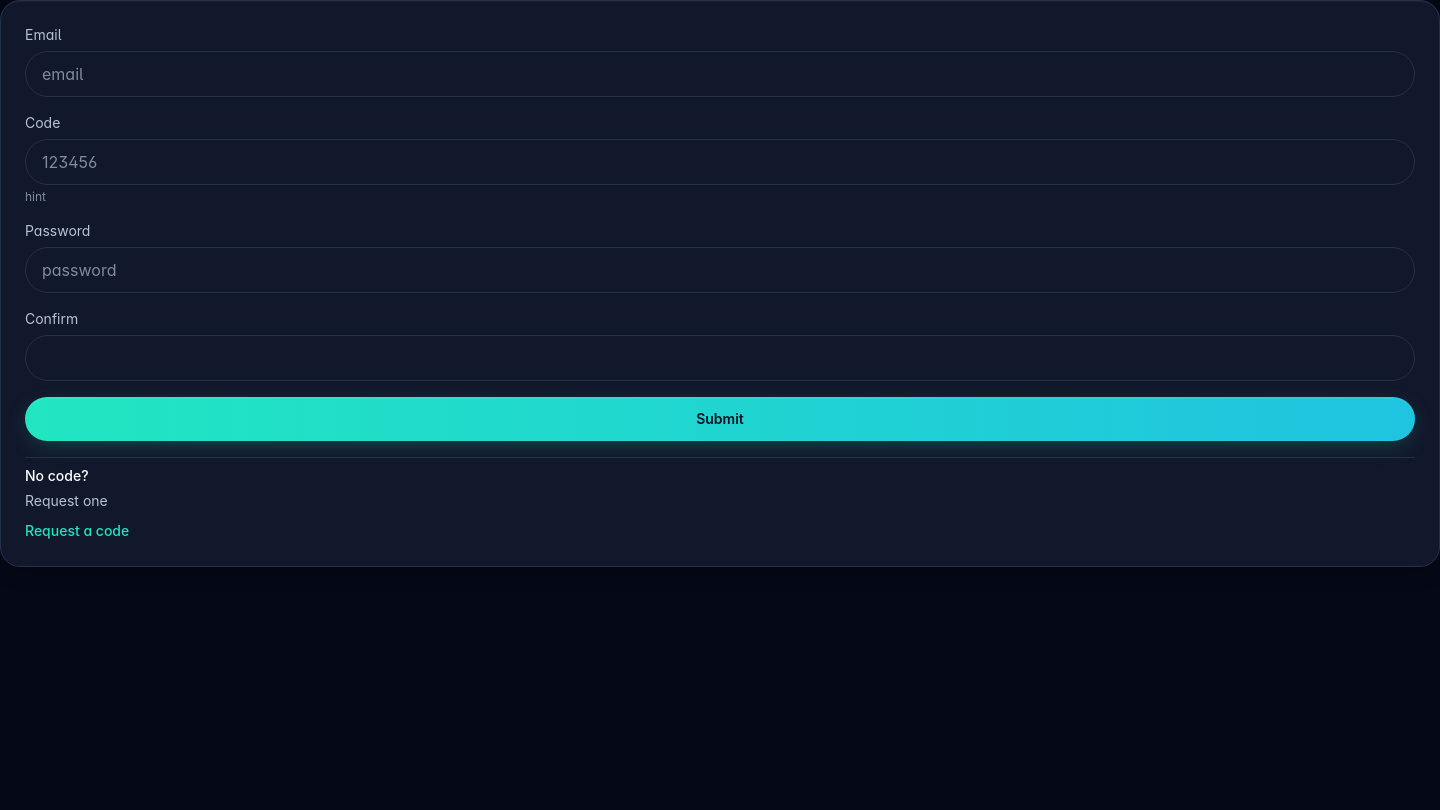
Test: ResetPasswordForm › network failure during verifyOtp shows the network copy, not a generic/opaque one
The width and height of the screenshot is (1440, 810).
Type "user-a@example.com" into the field labelled "Email".
click(720, 74); type("user-a@example.com")  # box [25,51,1415,97]
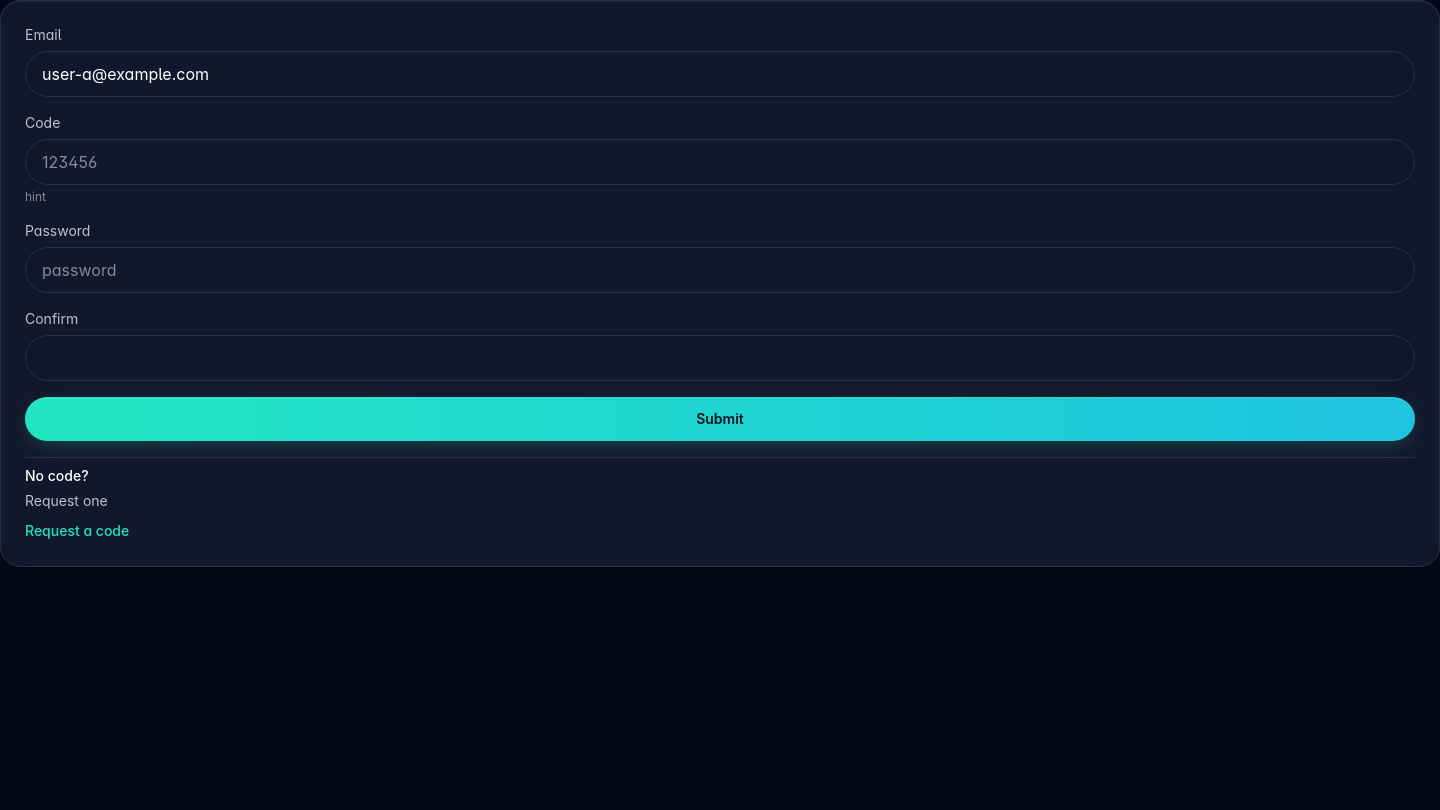
Type "654321" into the field labelled "Code".
click(720, 162); type("654321")  # box [25,139,1415,185]
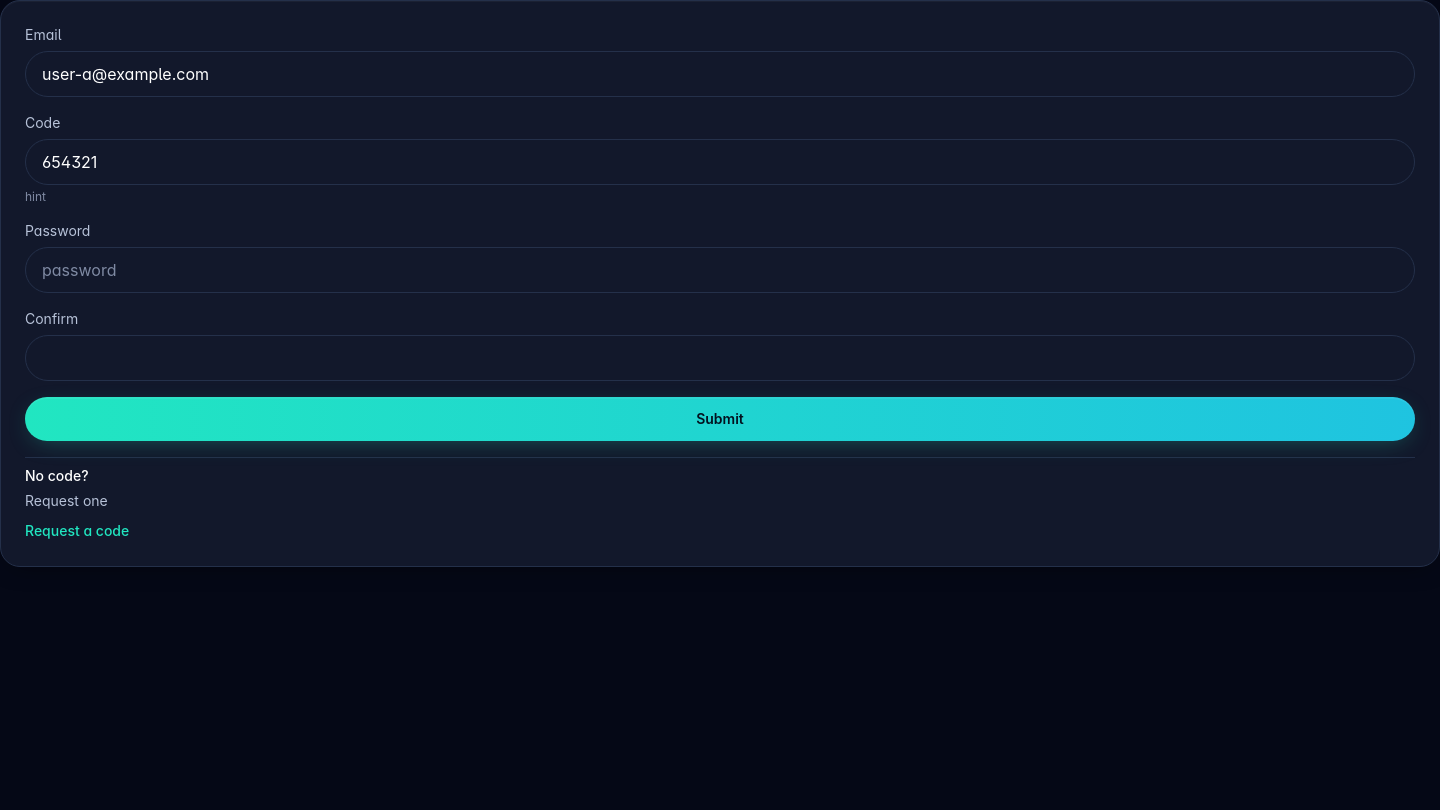
Type "brand-new-password" into the password field labelled "Password".
click(720, 270); type("brand-new-password")  # box [25,247,1415,293]
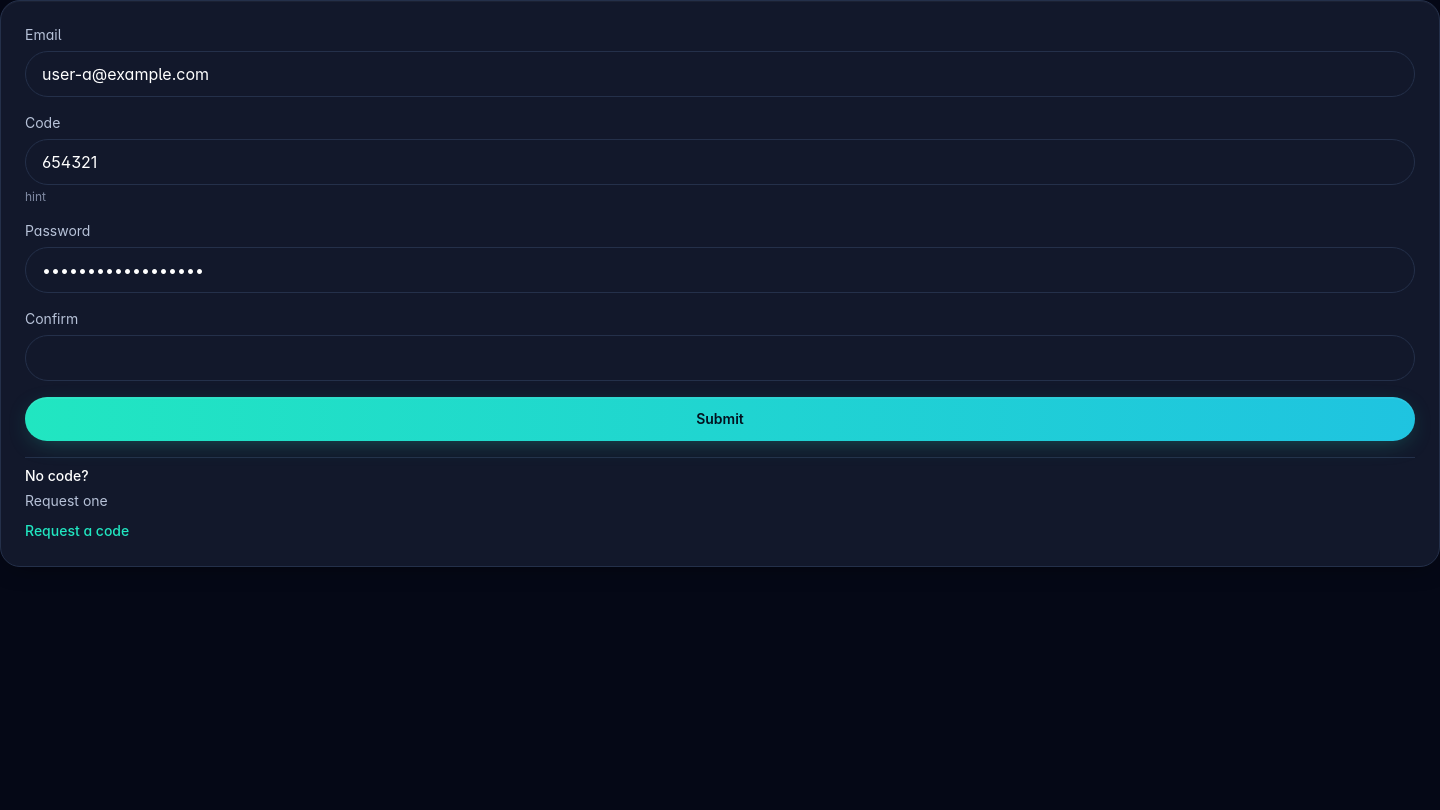
Type "brand-new-password" into the password field labelled "Confirm".
click(720, 358); type("brand-new-password")  # box [25,335,1415,381]
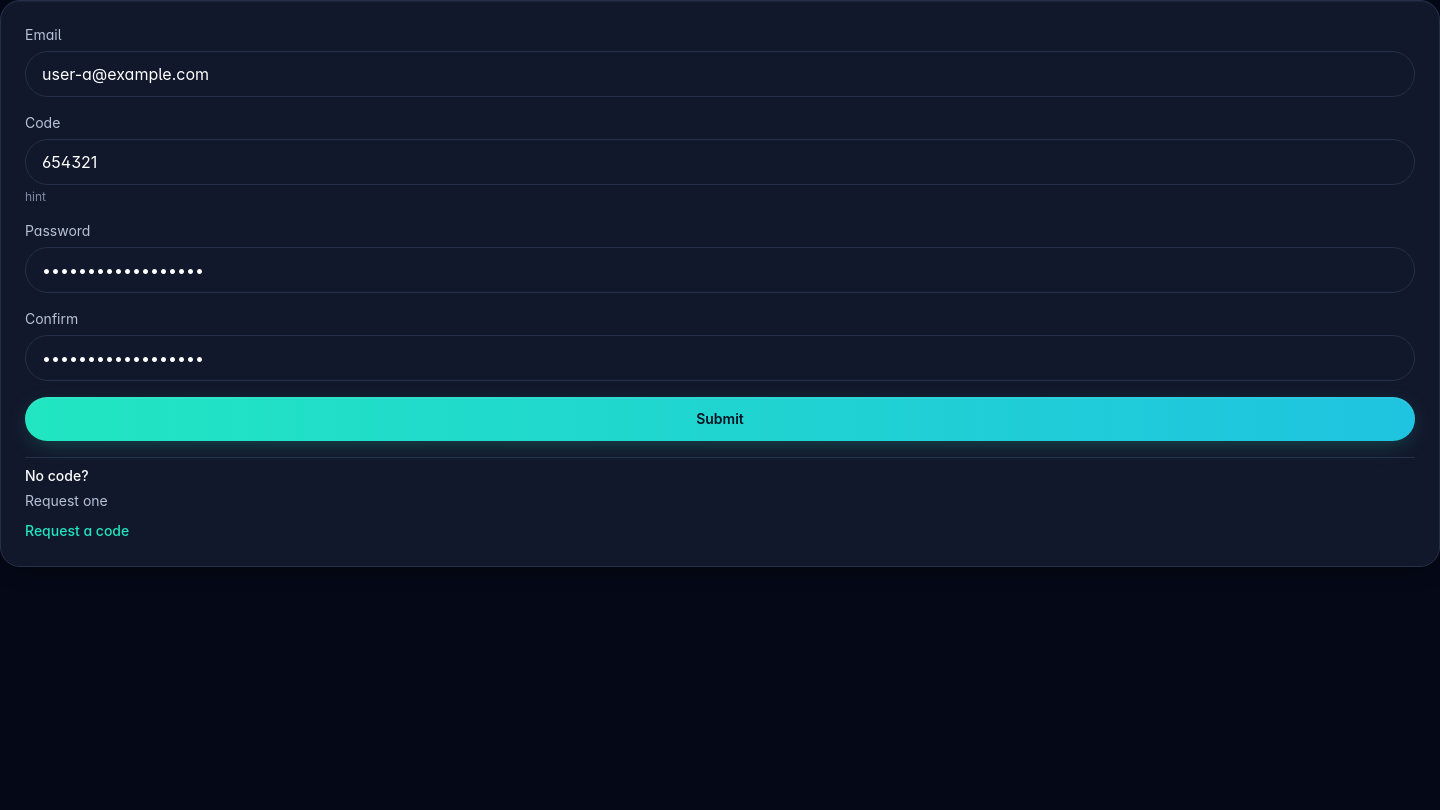
Click the button "Submit".
click(720, 419)  # box [25,397,1415,441]
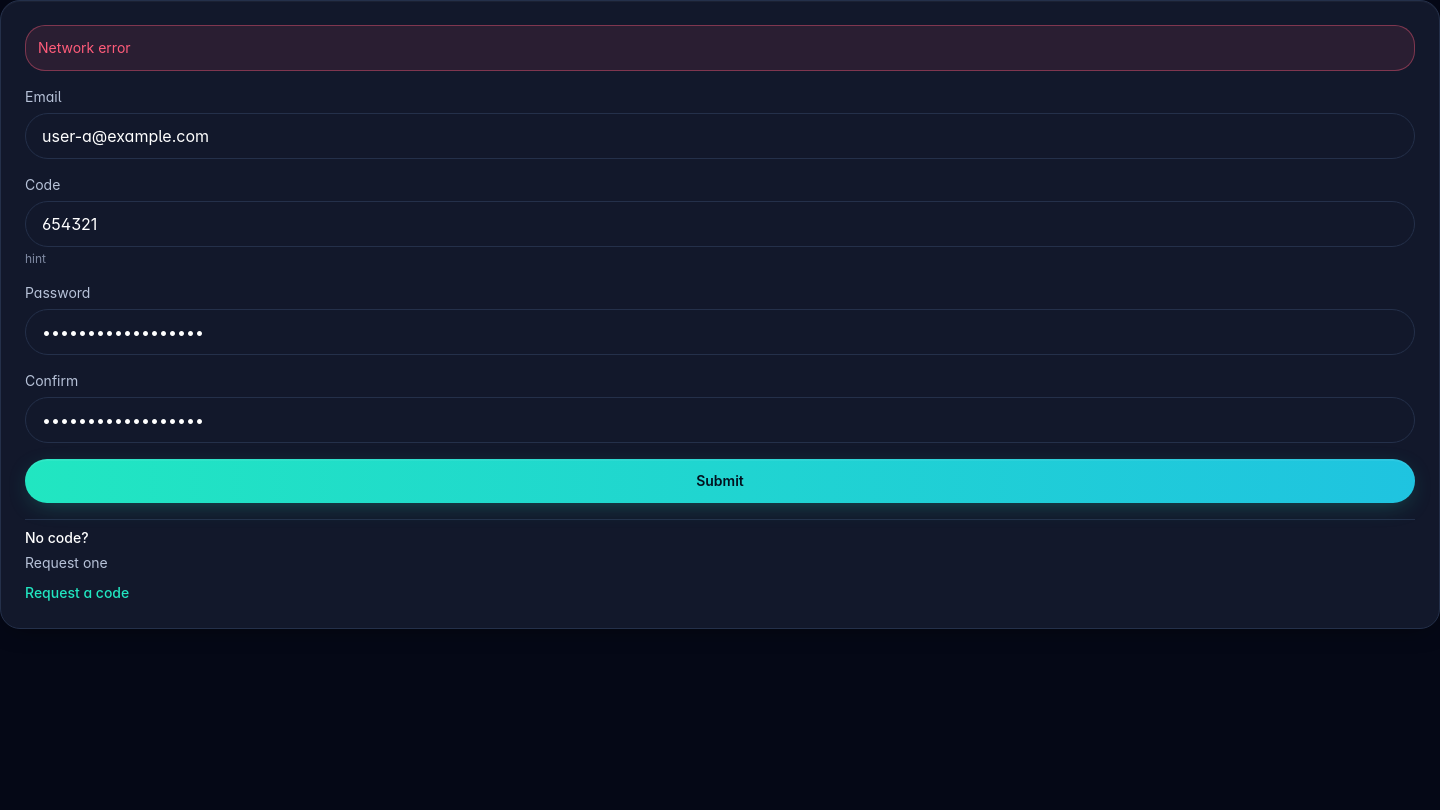
Check: the text "Network error" is shown, box [25,25,1415,71]
